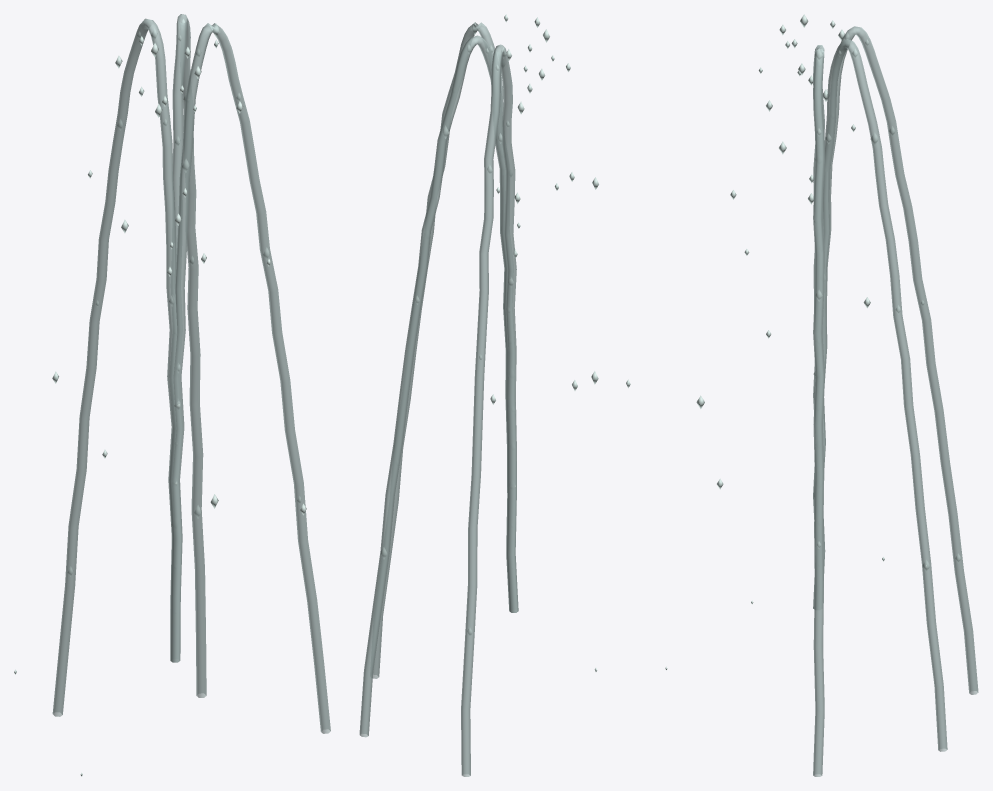
Rendered from centralJet.glb.
3 views of the same model, side by side, from view 1: azimuth 30°, elevation 25°; view 2: azimuth 150°, elevation 25°; view 3: azimuth 270°, elevation 25° (orthographic). The views are drawn at different scales.
Parts seen in each view (by area): view 1: centralJet_stream, centralJet_spray; view 2: centralJet_stream, centralJet_spray; view 3: centralJet_stream, centralJet_spray.
Part boxes in pixels (x1,y1,x2,y2): centralJet_stream: [52, 14, 330, 733]; centralJet_spray: [14, 19, 306, 776]; centralJet_stream: [359, 22, 518, 776]; centralJet_spray: [381, 14, 667, 671]; centralJet_stream: [813, 26, 978, 776]; centralJet_spray: [696, 14, 961, 604].
Bounding box in the file's own units: 1.8 × 4.46 × 1.67.
